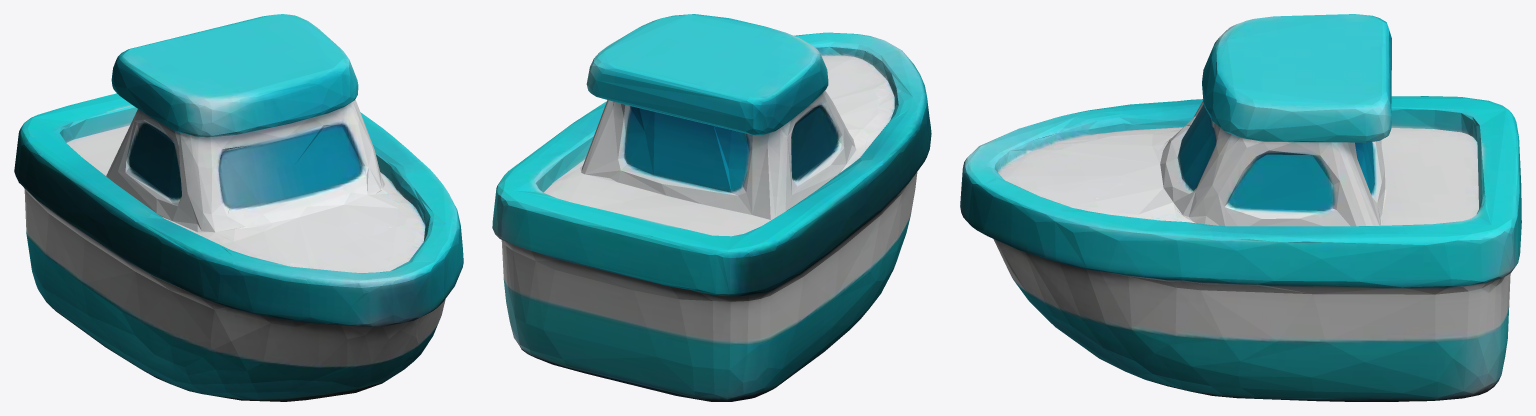
The model's file is boat.glb.
The picture shows the model from 3 angles, left to right: view 1: azimuth 30°, elevation 25°; view 2: azimuth 150°, elevation 25°; view 3: azimuth 270°, elevation 25°; orthographic projection. The views are drawn at different scales.
Parts seen in each view (by area): view 1: geometry_0; view 2: geometry_0; view 3: geometry_0.
Boxes of the visible parts, left/top/right/bottom form: geometry_0: left=14, top=14, right=463, bottom=401; geometry_0: left=492, top=14, right=931, bottom=401; geometry_0: left=960, top=14, right=1521, bottom=401.
Size of the model in its own units: 0.6427 by 0.5783 by 0.9983.
1 material, 1 textured.
